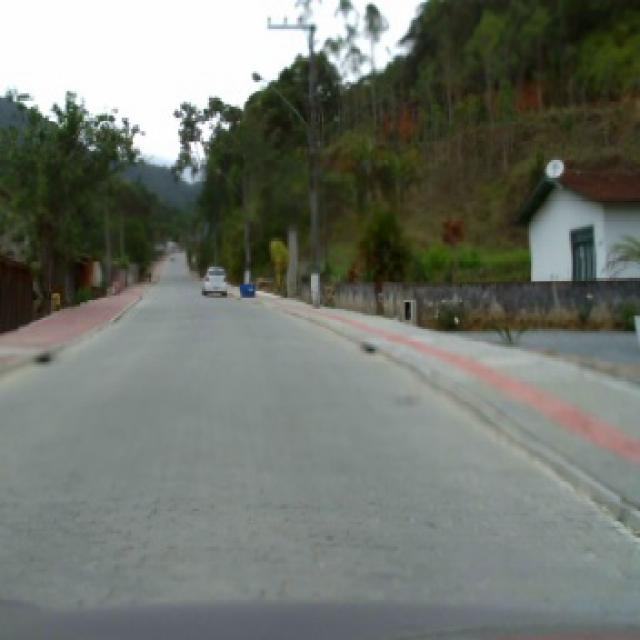Poth-hole: (31, 349, 51, 362), (360, 340, 375, 353)
